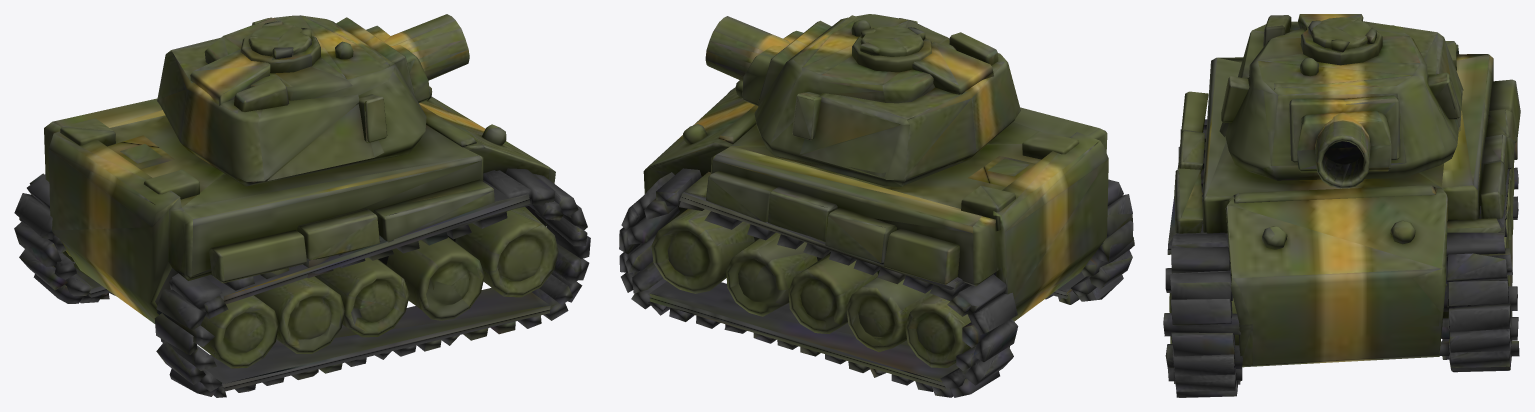
File: heavy.glb
3 renders of one model, left to right at view 1: azimuth 30°, elevation 25°; view 2: azimuth 150°, elevation 25°; view 3: azimuth 270°, elevation 25°, orthographic. The views are drawn at different scales.
Visible parts, largest first — view 1: hull, turret; view 2: hull, turret; view 3: hull, turret.
Boxes of the visible parts, x1,y1,x2,y2 form: hull: (14, 18, 590, 397); turret: (157, 14, 469, 186); hull: (619, 18, 1134, 397); turret: (705, 14, 1020, 186); hull: (1163, 41, 1520, 397); turret: (1224, 14, 1463, 188).
Size of the model in its own units: 1.05 by 0.6724 by 0.7834.
Materials: 1 (1 with a texture image).
